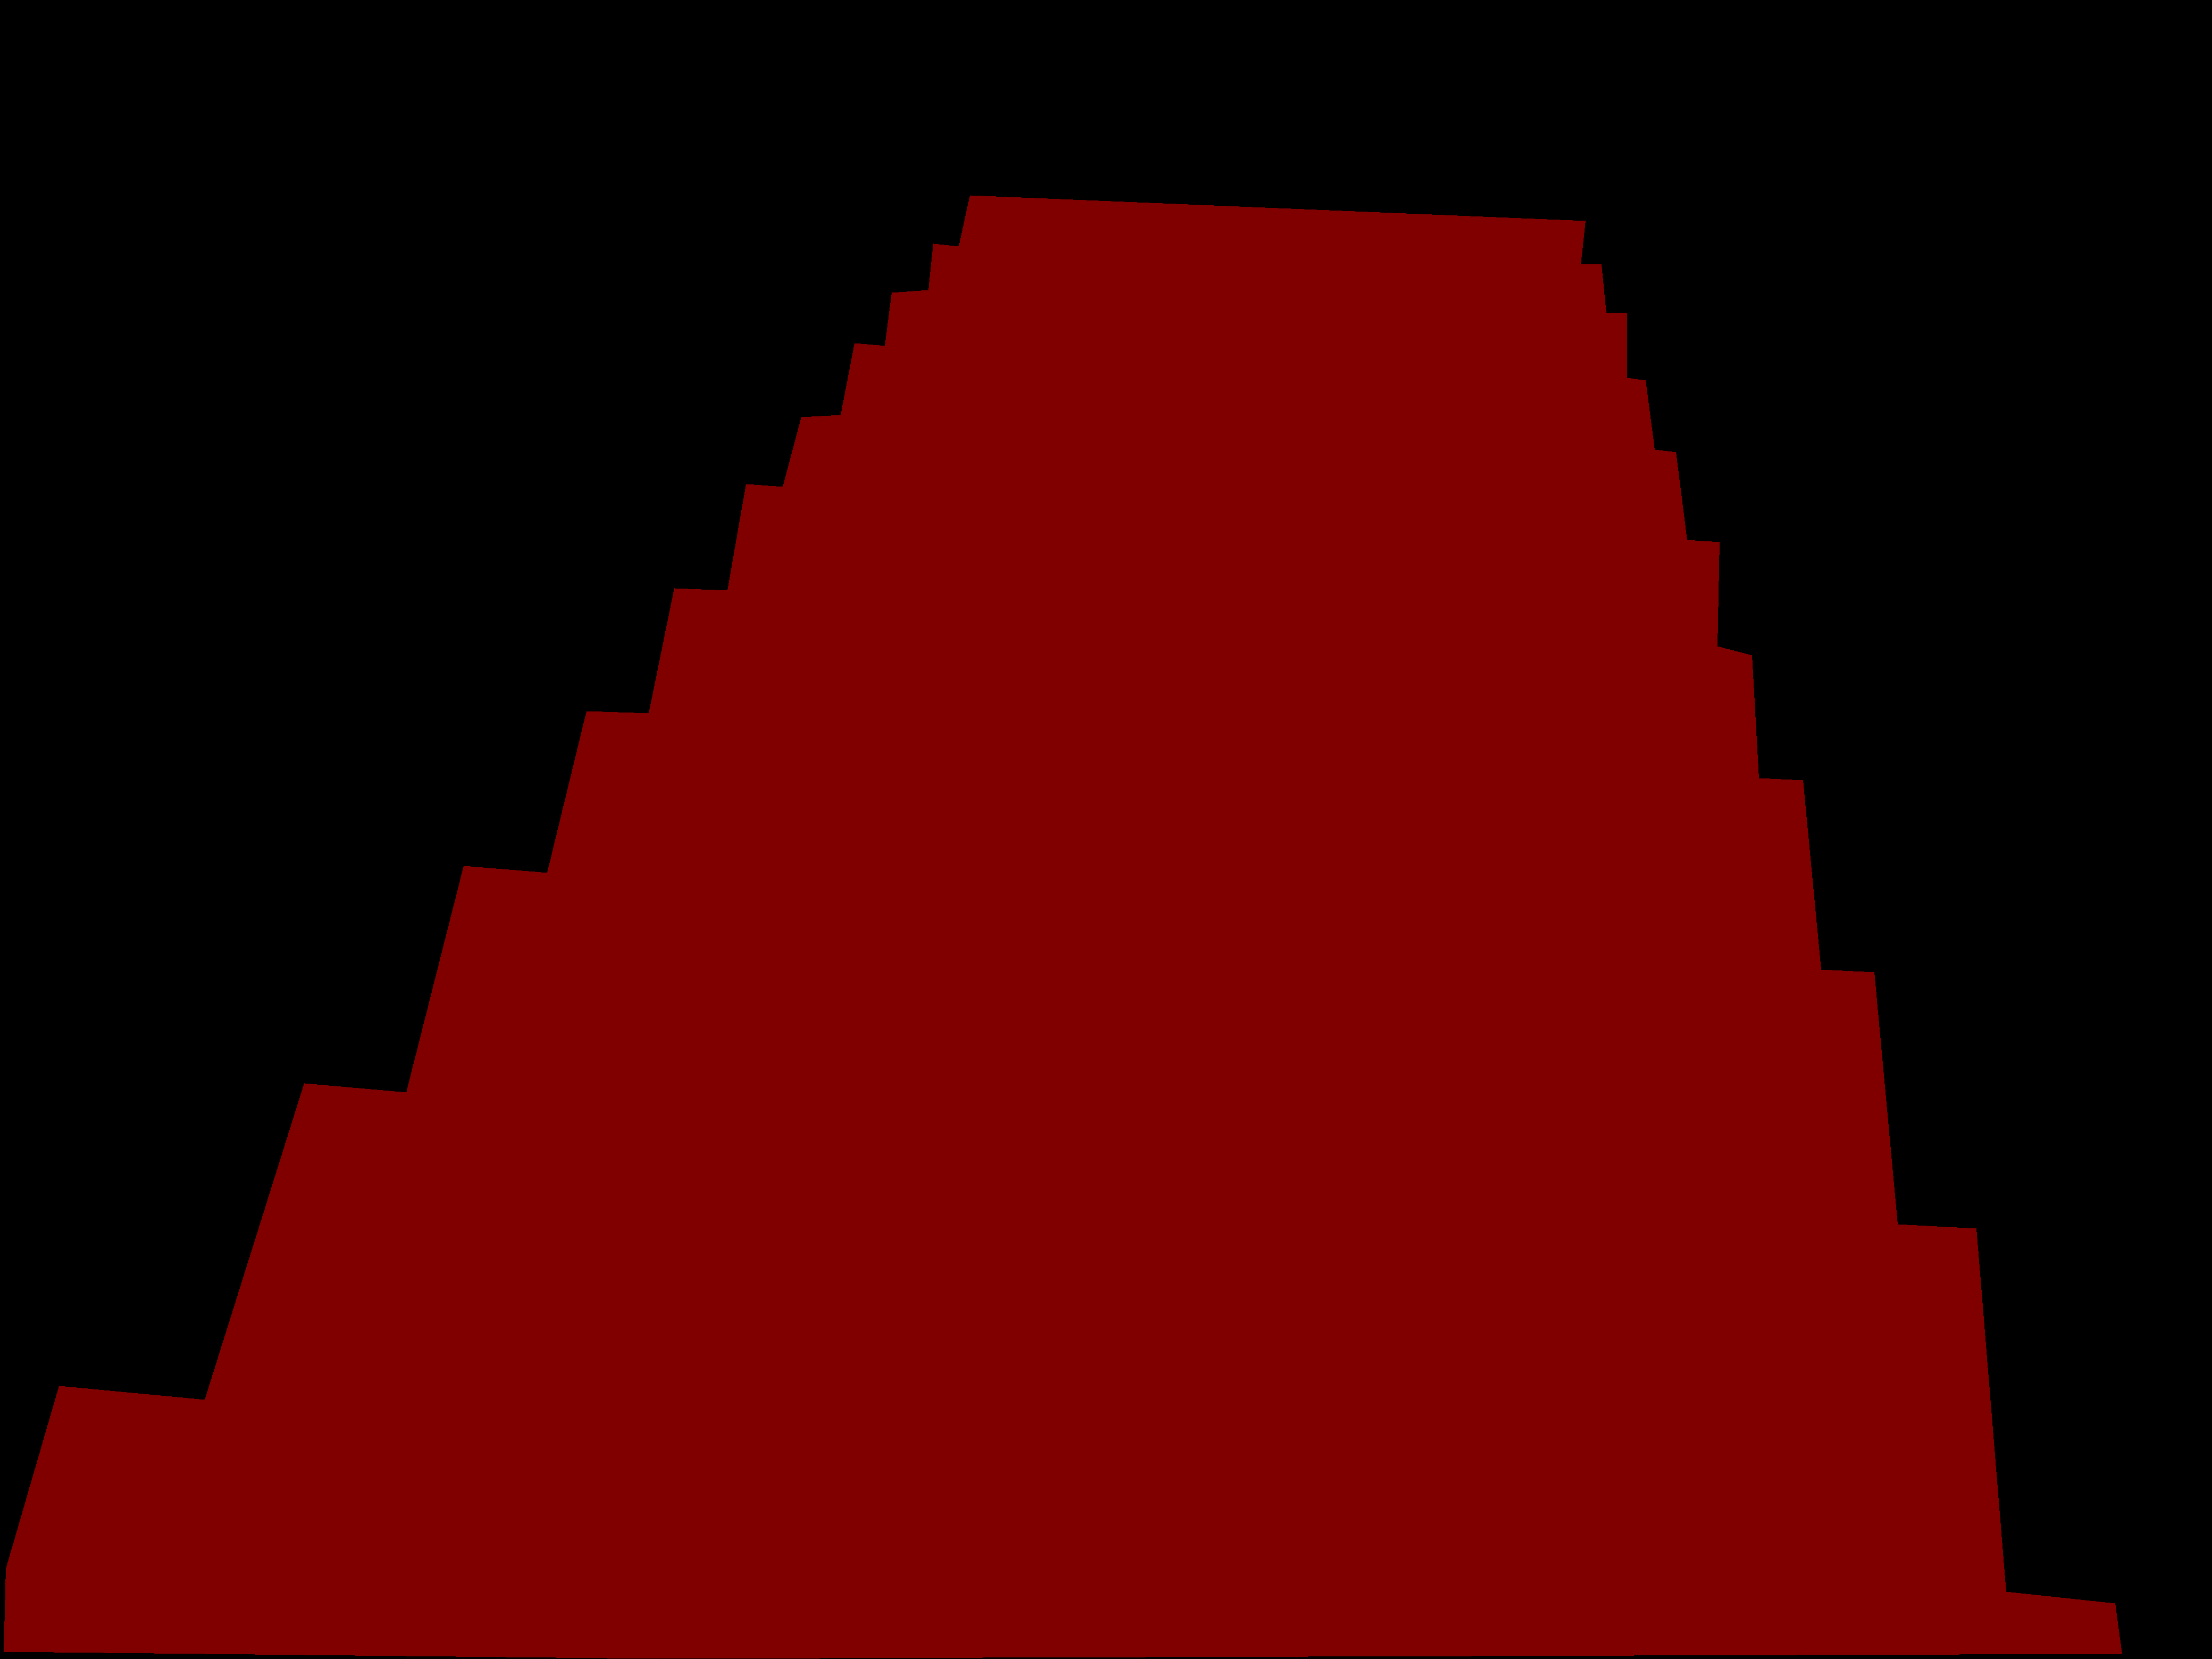stair: (3, 195, 2121, 1659)
